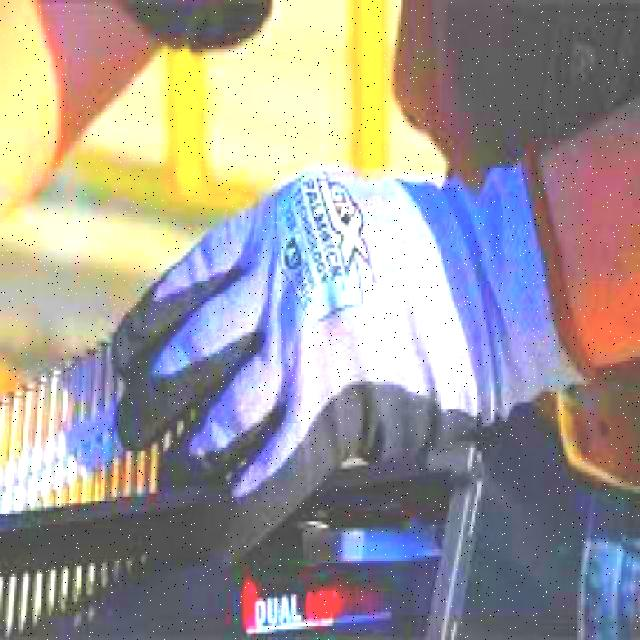Gloves: (104, 138, 570, 564)
